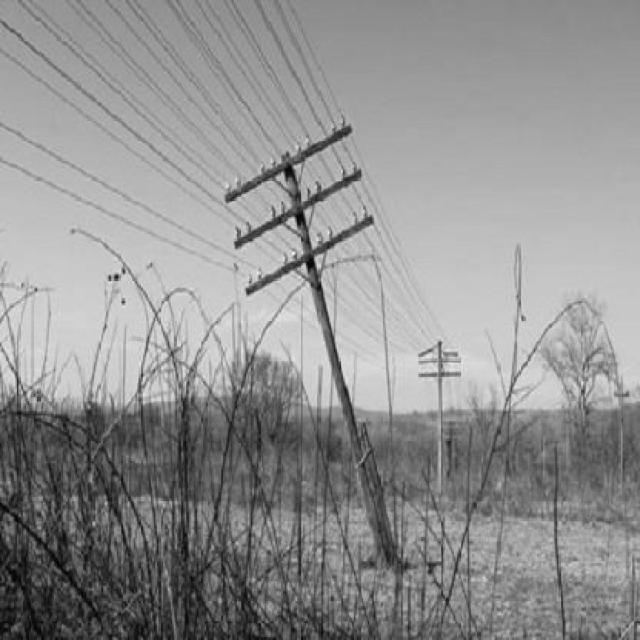Pole: (217, 110, 403, 571)
